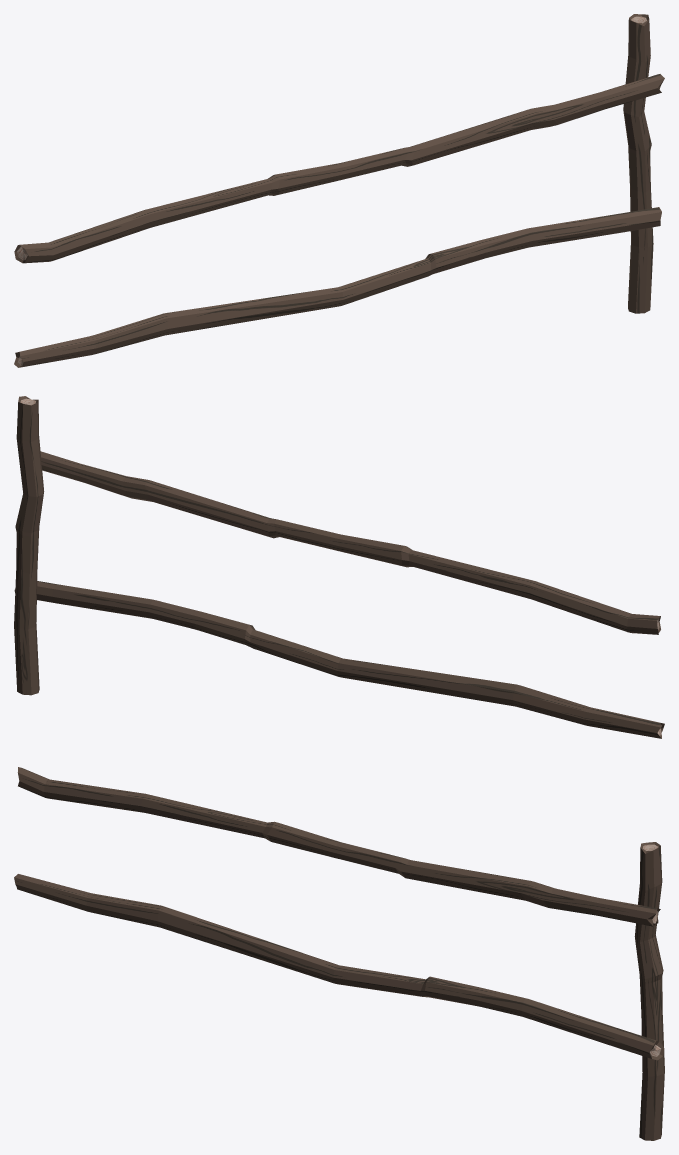
File: fence_1.fbx
3 views of the same model, one above another, from view 1: azimuth 30°, elevation 25°; view 2: azimuth 150°, elevation 25°; view 3: azimuth 330°, elevation 25° (orthographic).
Visible parts, largest first — view 1: fence_1; view 2: fence_1; view 3: fence_1.
Part boxes in pixels (x1,y1,x2,y2): fence_1: (14, 14, 664, 367); fence_1: (14, 396, 664, 738); fence_1: (14, 767, 664, 1140).
Bounding box in the file's own units: 391 × 169 × 18.35.
